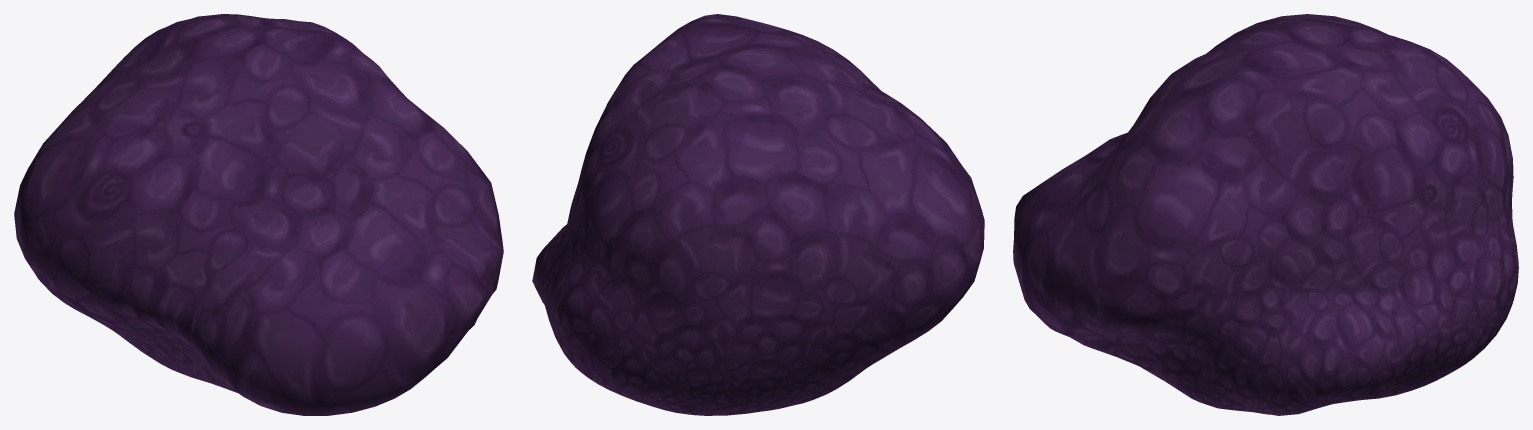
Rendered from Pruebarock2.fbx.
3 views of the same model, side by side, from view 1: azimuth 30°, elevation 25°; view 2: azimuth 150°, elevation 25°; view 3: azimuth 270°, elevation 25° (orthographic). The views are drawn at different scales.
Visible parts, largest first — view 1: Cube.008; view 2: Cube.008; view 3: Cube.008.
Part boxes in pixels (x1=…): Cube.008: x1=14, y1=14, x2=503, y2=415; Cube.008: x1=532, y1=14, x2=984, y2=415; Cube.008: x1=1013, y1=14, x2=1518, y2=415.
Bounding box in the file's own units: 977 × 746 × 1040.
